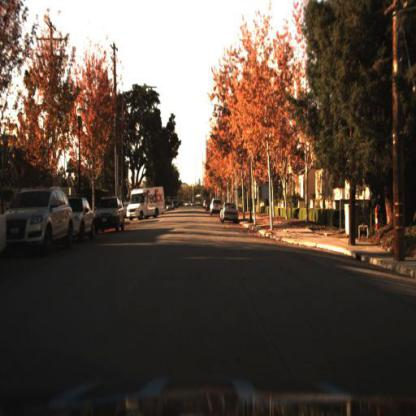car: (3, 184, 79, 263), (126, 186, 168, 225), (96, 195, 128, 237), (72, 194, 98, 244), (219, 199, 241, 227), (211, 195, 224, 216)
truck: (122, 184, 173, 221)
